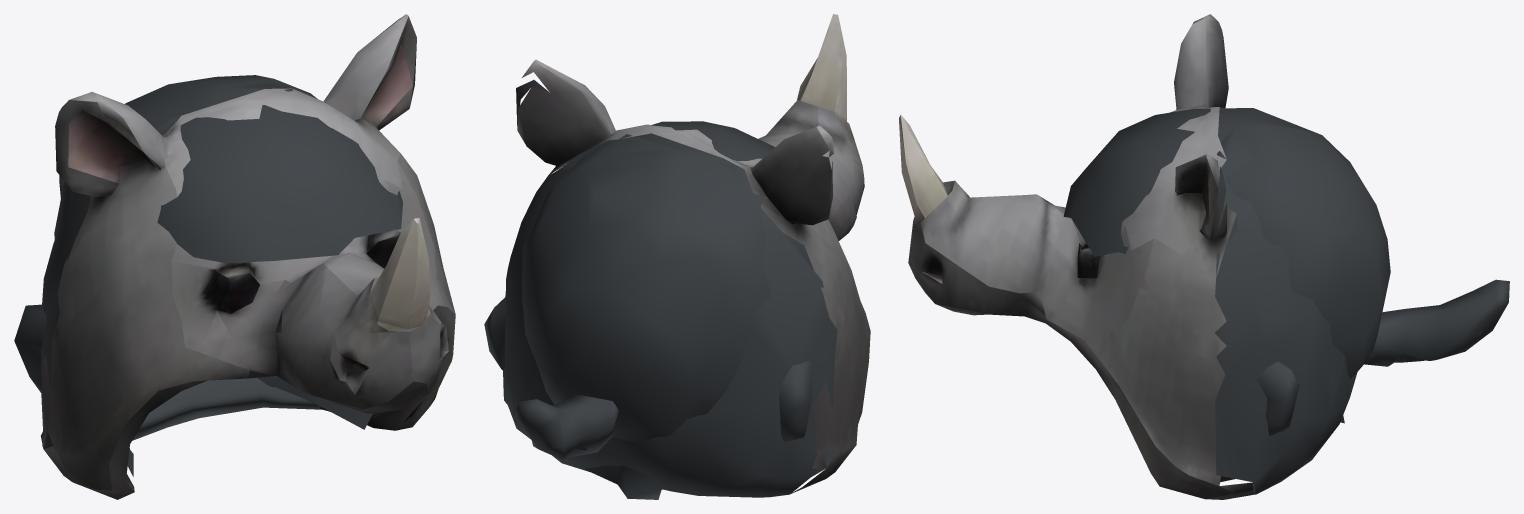
The model's file is rhino.glb.
3 views of the same model, side by side, from view 1: azimuth 30°, elevation 25°; view 2: azimuth 150°, elevation 25°; view 3: azimuth 270°, elevation 25° (orthographic). The views are drawn at different scales.
Visible parts, largest first — view 1: geometry_0, HoodAnatomicalLining; view 2: geometry_0, HoodAnatomicalLining; view 3: geometry_0, HoodAnatomicalLining.
Boxes of the visible parts, x1,y1,x2,y2 form: geometry_0: [41, 14, 455, 499]; HoodAnatomicalLining: [14, 75, 402, 476]; geometry_0: [503, 14, 870, 497]; HoodAnatomicalLining: [484, 121, 813, 499]; geometry_0: [899, 14, 1509, 499]; HoodAnatomicalLining: [1063, 108, 1390, 436].
Size of the model in its own units: 0.4711 by 0.4805 by 0.7492.
Materials: 2 (1 with a texture image).
